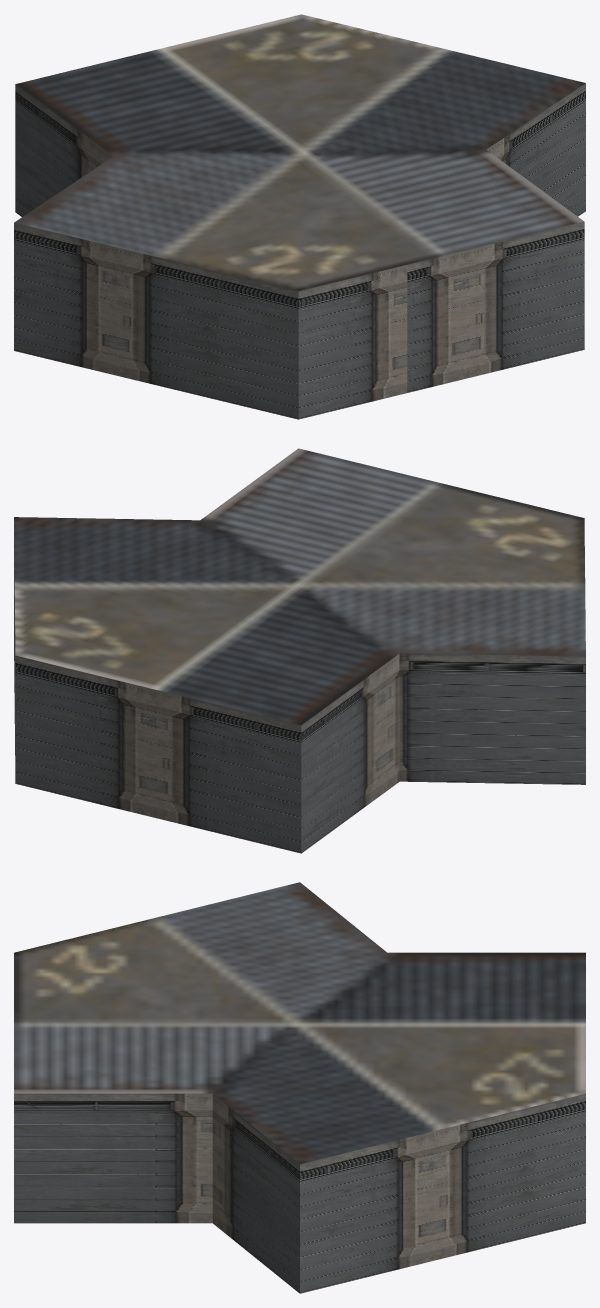
The model's file is hangar_light_27.glb.
3 views of the same model, one above another, from view 1: azimuth 30°, elevation 25°; view 2: azimuth 150°, elevation 25°; view 3: azimuth 270°, elevation 25° (orthographic).
Parts seen in each view (by area): view 1: buildings/saxarba/hangar_light/hangar_light_27; view 2: buildings/saxarba/hangar_light/hangar_light_27; view 3: buildings/saxarba/hangar_light/hangar_light_27.
Part boxes in pixels (x1,y1,x2,y2): buildings/saxarba/hangar_light/hangar_light_27: (14,14,585,419); buildings/saxarba/hangar_light/hangar_light_27: (14,448,585,853); buildings/saxarba/hangar_light/hangar_light_27: (14,882,585,1293).
Size of the model in its own units: 84 by 18 by 72.
